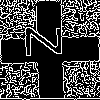Z: (25, 25, 72, 57)
